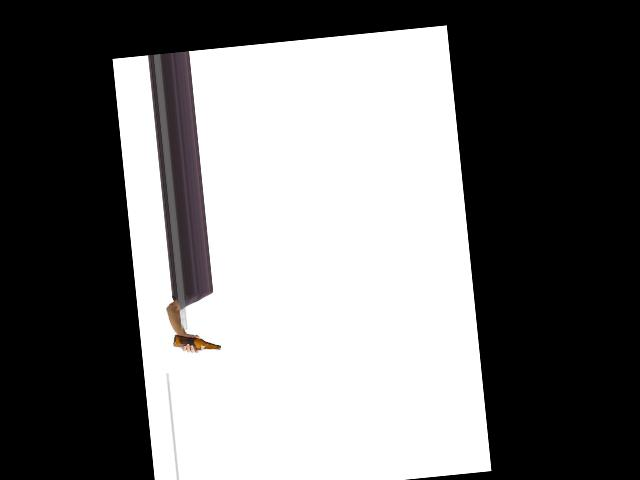beer: (172, 329, 220, 353)
